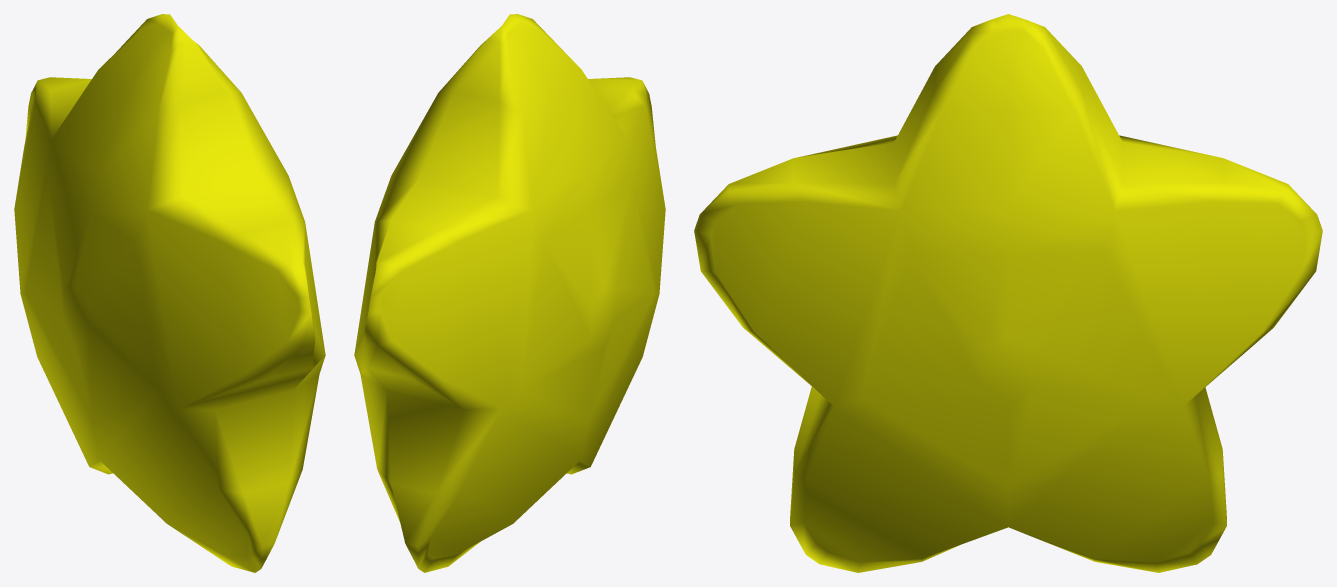
Rendered from SM_Star.fbx.
The picture shows the model from 3 angles, left to right: view 1: azimuth 30°, elevation 25°; view 2: azimuth 150°, elevation 25°; view 3: azimuth 270°, elevation 25°; orthographic projection. The views are drawn at different scales.
Visible parts, largest first — view 1: SM_Star; view 2: SM_Star; view 3: SM_Star.
Part boxes in pixels (x1,y1,x2,y2): SM_Star: [14, 14, 325, 572]; SM_Star: [354, 14, 665, 572]; SM_Star: [694, 14, 1322, 572].
Size of the model in its own units: 1.33 by 3.43 by 3.51.
